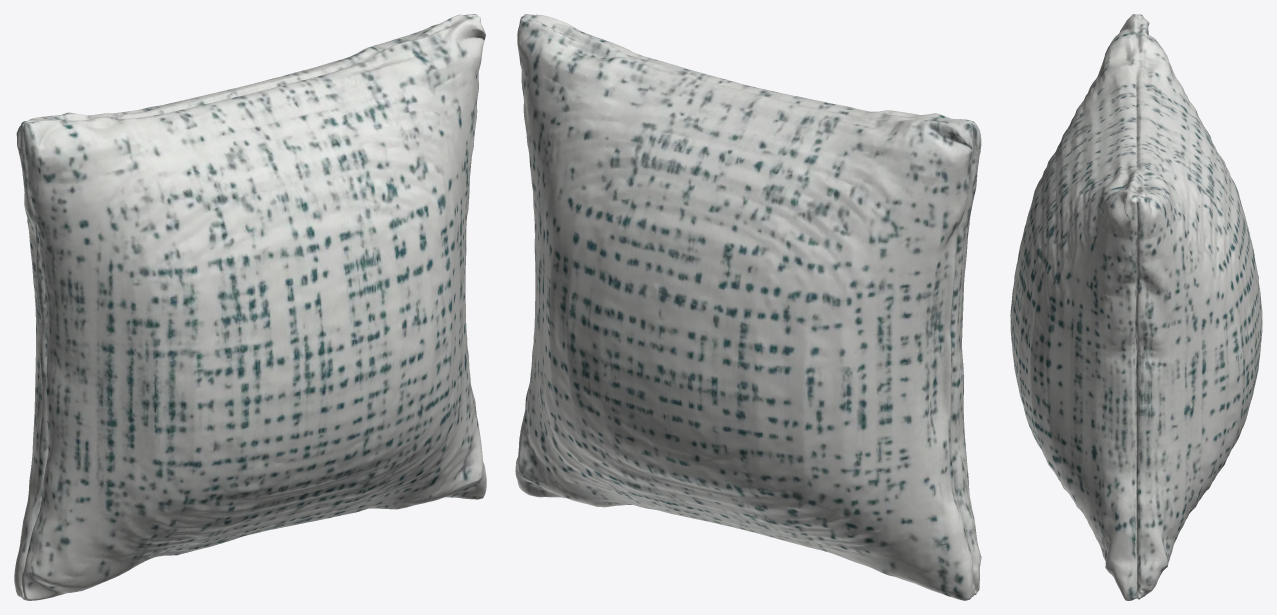
3 views of the same model, side by side, from view 1: azimuth 30°, elevation 25°; view 2: azimuth 150°, elevation 25°; view 3: azimuth 270°, elevation 25° (orthographic). The views are drawn at different scales.
Parts seen in each view (by area): view 1: geometry_0; view 2: geometry_0; view 3: geometry_0.
Part boxes in pixels (x1,y1,x2,y2): geometry_0: [14, 14, 486, 600]; geometry_0: [515, 14, 981, 600]; geometry_0: [1010, 14, 1262, 600].
Size of the model in its own units: 0.9998 by 0.9995 by 0.5657.
1 material, 1 textured.
